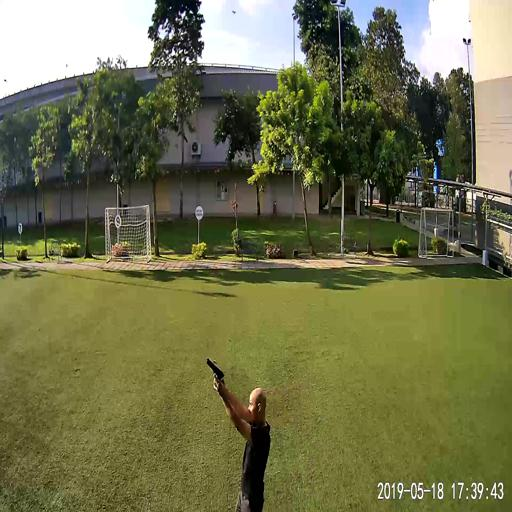pistol: (206, 356, 224, 384)
